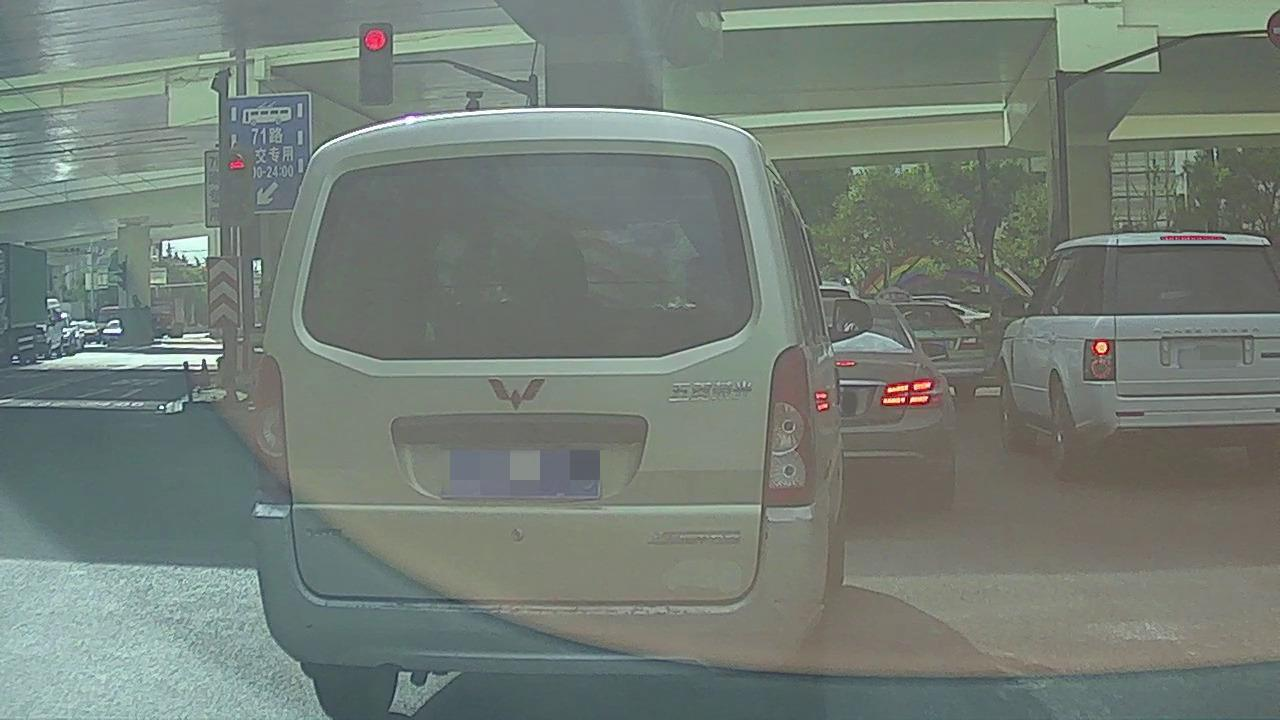traffic_light: (358, 25, 391, 102)
